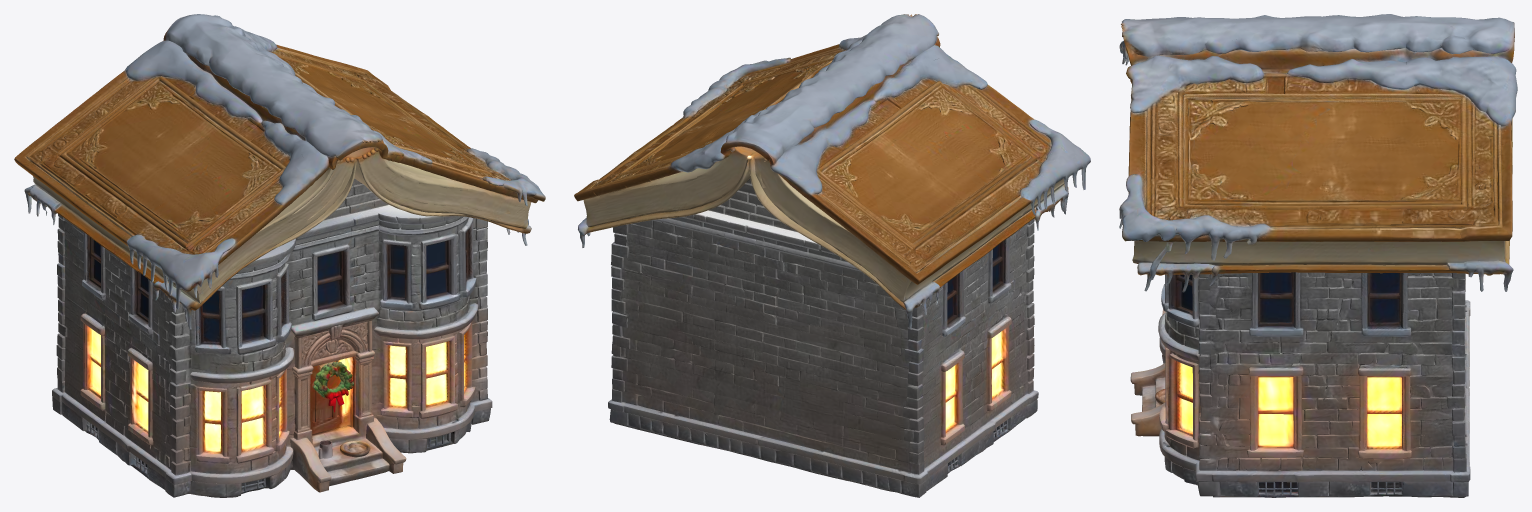
Rendered from burglars-christmas.glb.
The picture shows the model from 3 angles, left to right: view 1: azimuth 30°, elevation 25°; view 2: azimuth 150°, elevation 25°; view 3: azimuth 270°, elevation 25°; orthographic projection. The views are drawn at different scales.
Visible parts, largest first — view 1: model; view 2: model; view 3: model.
Part boxes in pixels (box(x1,y1,x2,y2)): model: box(14, 14, 545, 497); model: box(574, 14, 1090, 497); model: box(1119, 14, 1517, 497).
Bounding box in the file's own units: 1.9 × 1.76 × 1.61.
1 material, 1 textured.
